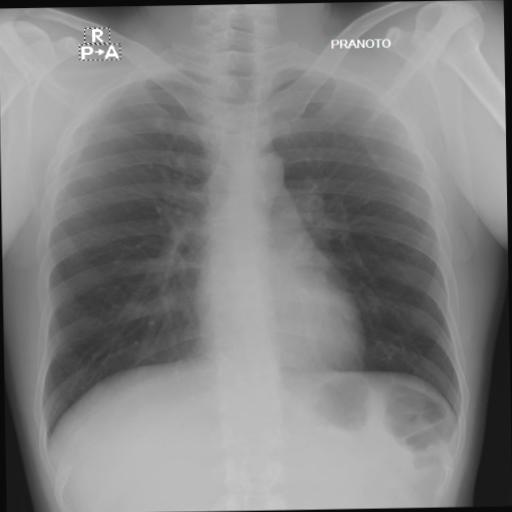normal: (26, 42, 480, 450)
